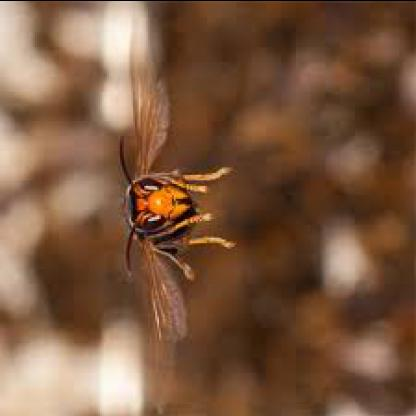asian: (98, 26, 252, 379)
